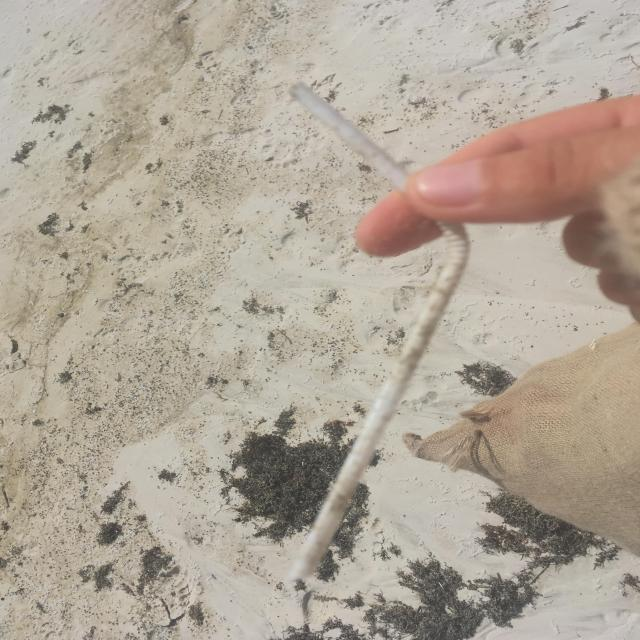litter: (276, 75, 479, 595)
